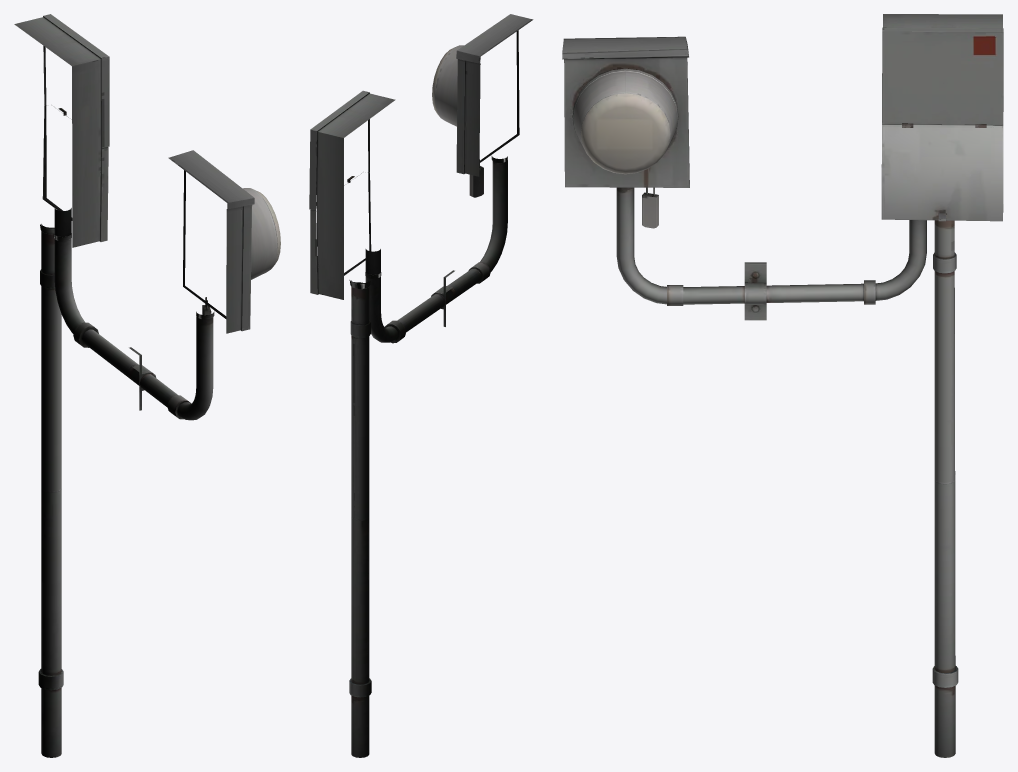
3 views of the same model, side by side, from view 1: azimuth 30°, elevation 25°; view 2: azimuth 150°, elevation 25°; view 3: azimuth 270°, elevation 25° (orthographic). The views are drawn at different scales.
Parts seen in each view (by area): view 1: body0_model0_lod0_mesh0; view 2: body0_model0_lod0_mesh0; view 3: body0_model0_lod0_mesh0.
Boxes of the visible parts, left/top/right/bottom form: body0_model0_lod0_mesh0: left=14, top=14, right=280, bottom=757; body0_model0_lod0_mesh0: left=309, top=14, right=533, bottom=757; body0_model0_lod0_mesh0: left=562, top=14, right=1003, bottom=757.
Bounding box in the file's own units: 11.05 × 108 × 58.98.
Materials: 1 (1 with a texture image).
